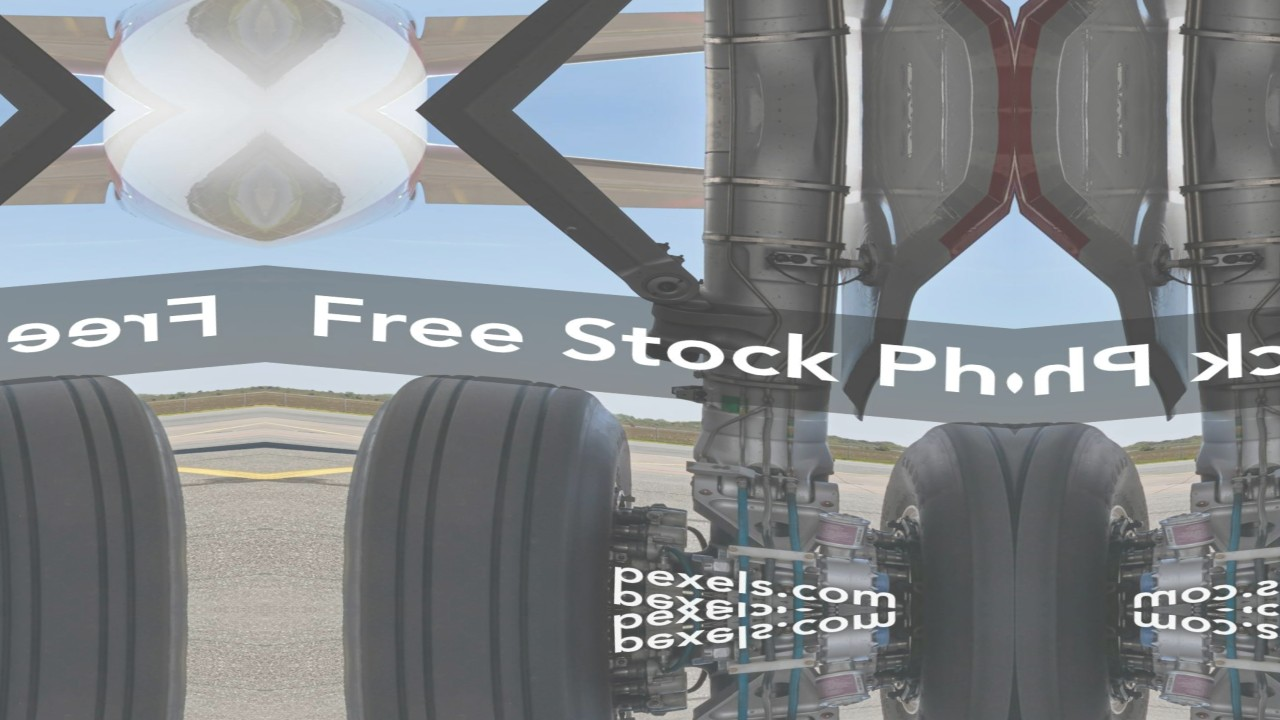wheel: (316, 364, 657, 586), (0, 364, 214, 586), (860, 413, 1015, 610), (1015, 413, 1170, 610), (316, 634, 657, 720), (0, 634, 214, 720), (860, 610, 1015, 720), (1015, 610, 1170, 720), (310, 560, 635, 610), (310, 610, 635, 660), (0, 560, 220, 610), (0, 610, 220, 660)
